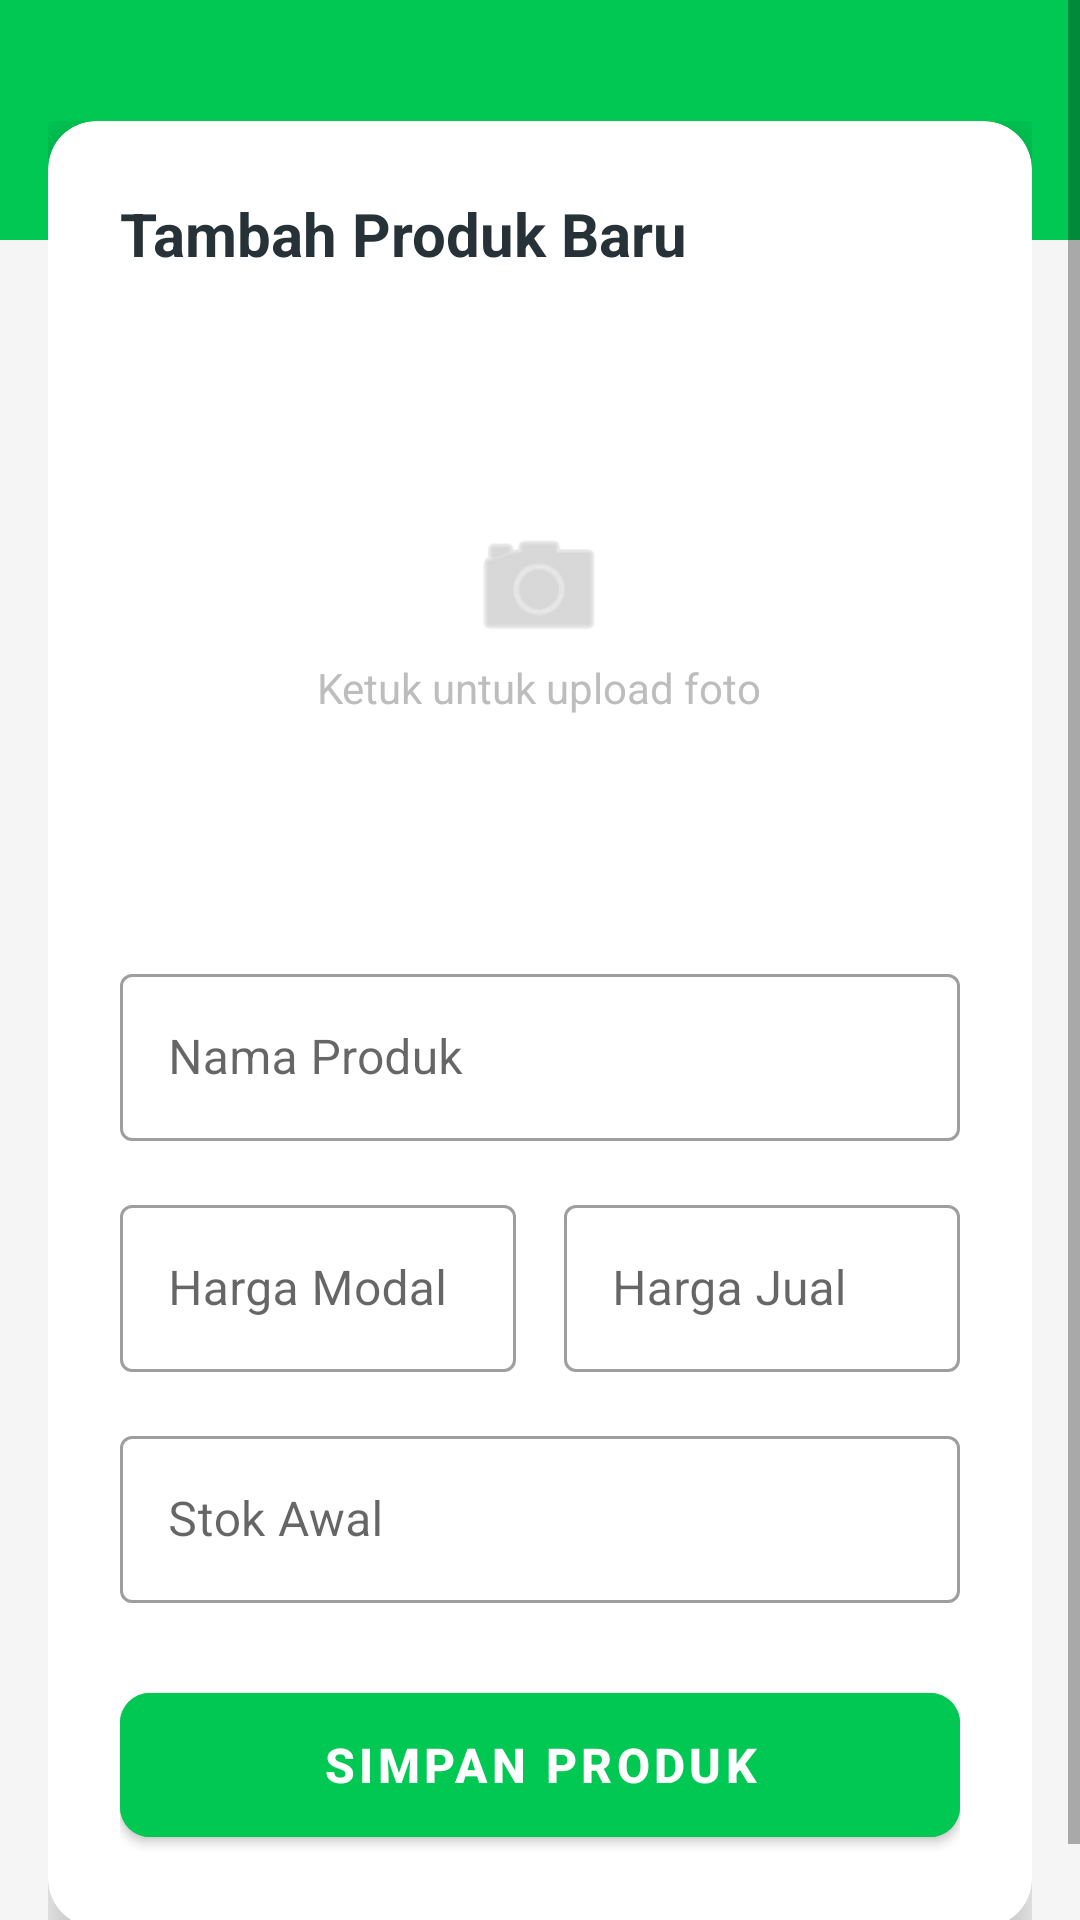

Locate icon controls on the screen. Image size 1080w x 1920h, boxes as (x1, y1, x2, y2).
camera: (485, 542, 593, 627)
